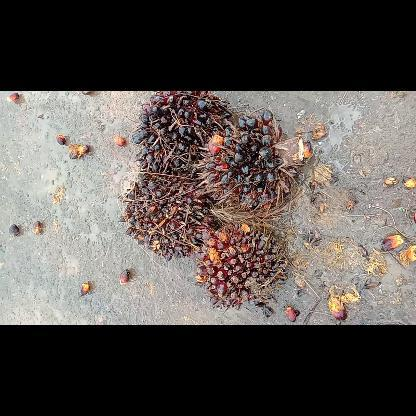TBS abnormal: (192, 107, 310, 215), (129, 90, 245, 182)
TBS masak: (195, 218, 295, 314), (119, 172, 221, 262)
